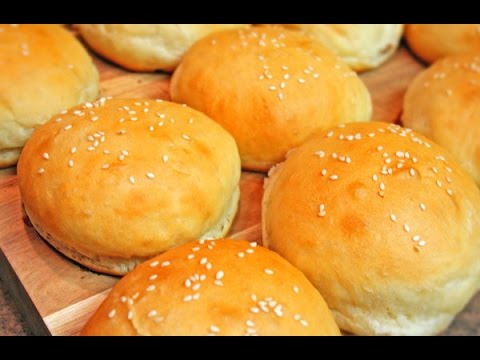hamburger_buns: (253, 118, 474, 314), (24, 93, 268, 252), (85, 231, 335, 360)
